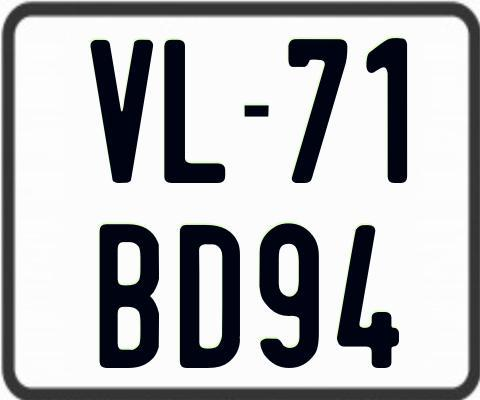1: (364, 38, 411, 183)
4: (334, 224, 397, 367)
7: (285, 38, 350, 188)
9: (257, 222, 322, 373)
B: (100, 224, 161, 373)
D: (180, 222, 240, 370)
L: (161, 37, 228, 183)
V: (88, 39, 151, 186)
